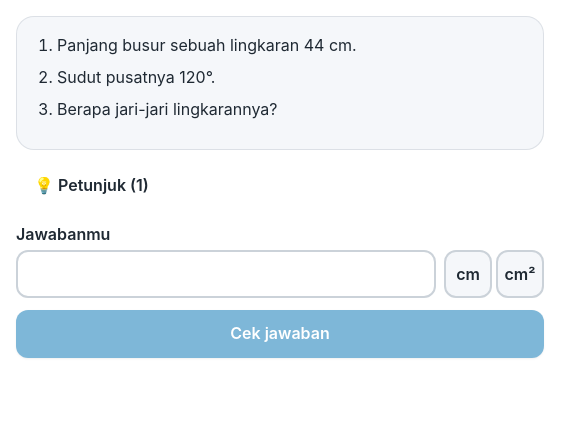
Test case: Latihan mandiri › petunjuk dibatasi 1 dan satuan salah ditandai
The width and height of the screenshot is (561, 436).
Expected: the button "💡 Petunjuk (1)" is shown, [16,162,167,210]
Type "21" into the field labelled "Jawabanmu".
click(226, 274); type("21")  # box [16,250,436,298]
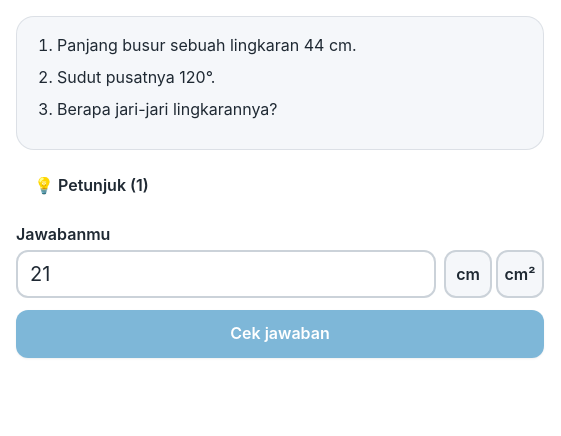
Click the radio button labelled "cm²".
click(520, 274)  # box [496,250,544,298]
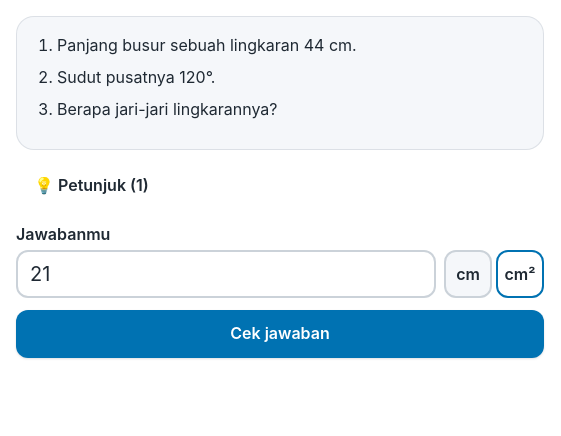
Click the button "Cek jawaban".
click(280, 334)  # box [16,310,544,358]
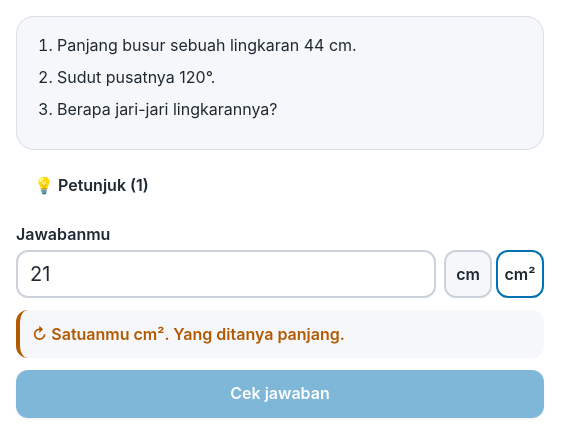
Expected: the text "↻ Satuanmu cm². Yang ditanya panjang." is shown, [16,310,544,358]
Click the radio button labelled "cm".
click(468, 274)  # box [444,250,492,298]
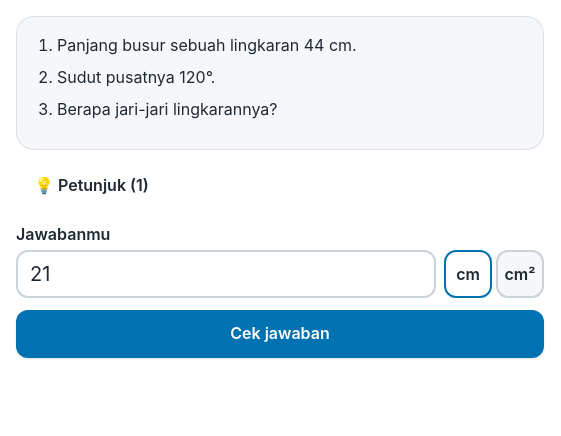
Click the button "Cek jawaban".
click(280, 334)  # box [16,310,544,358]
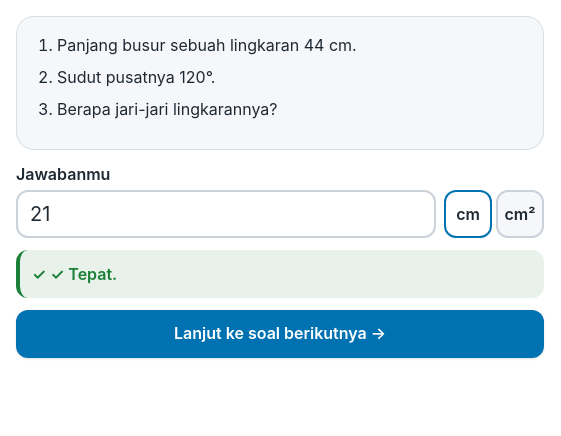
Expected: the text "✓ ✓ Tepat." is shown, [16,250,544,298]
